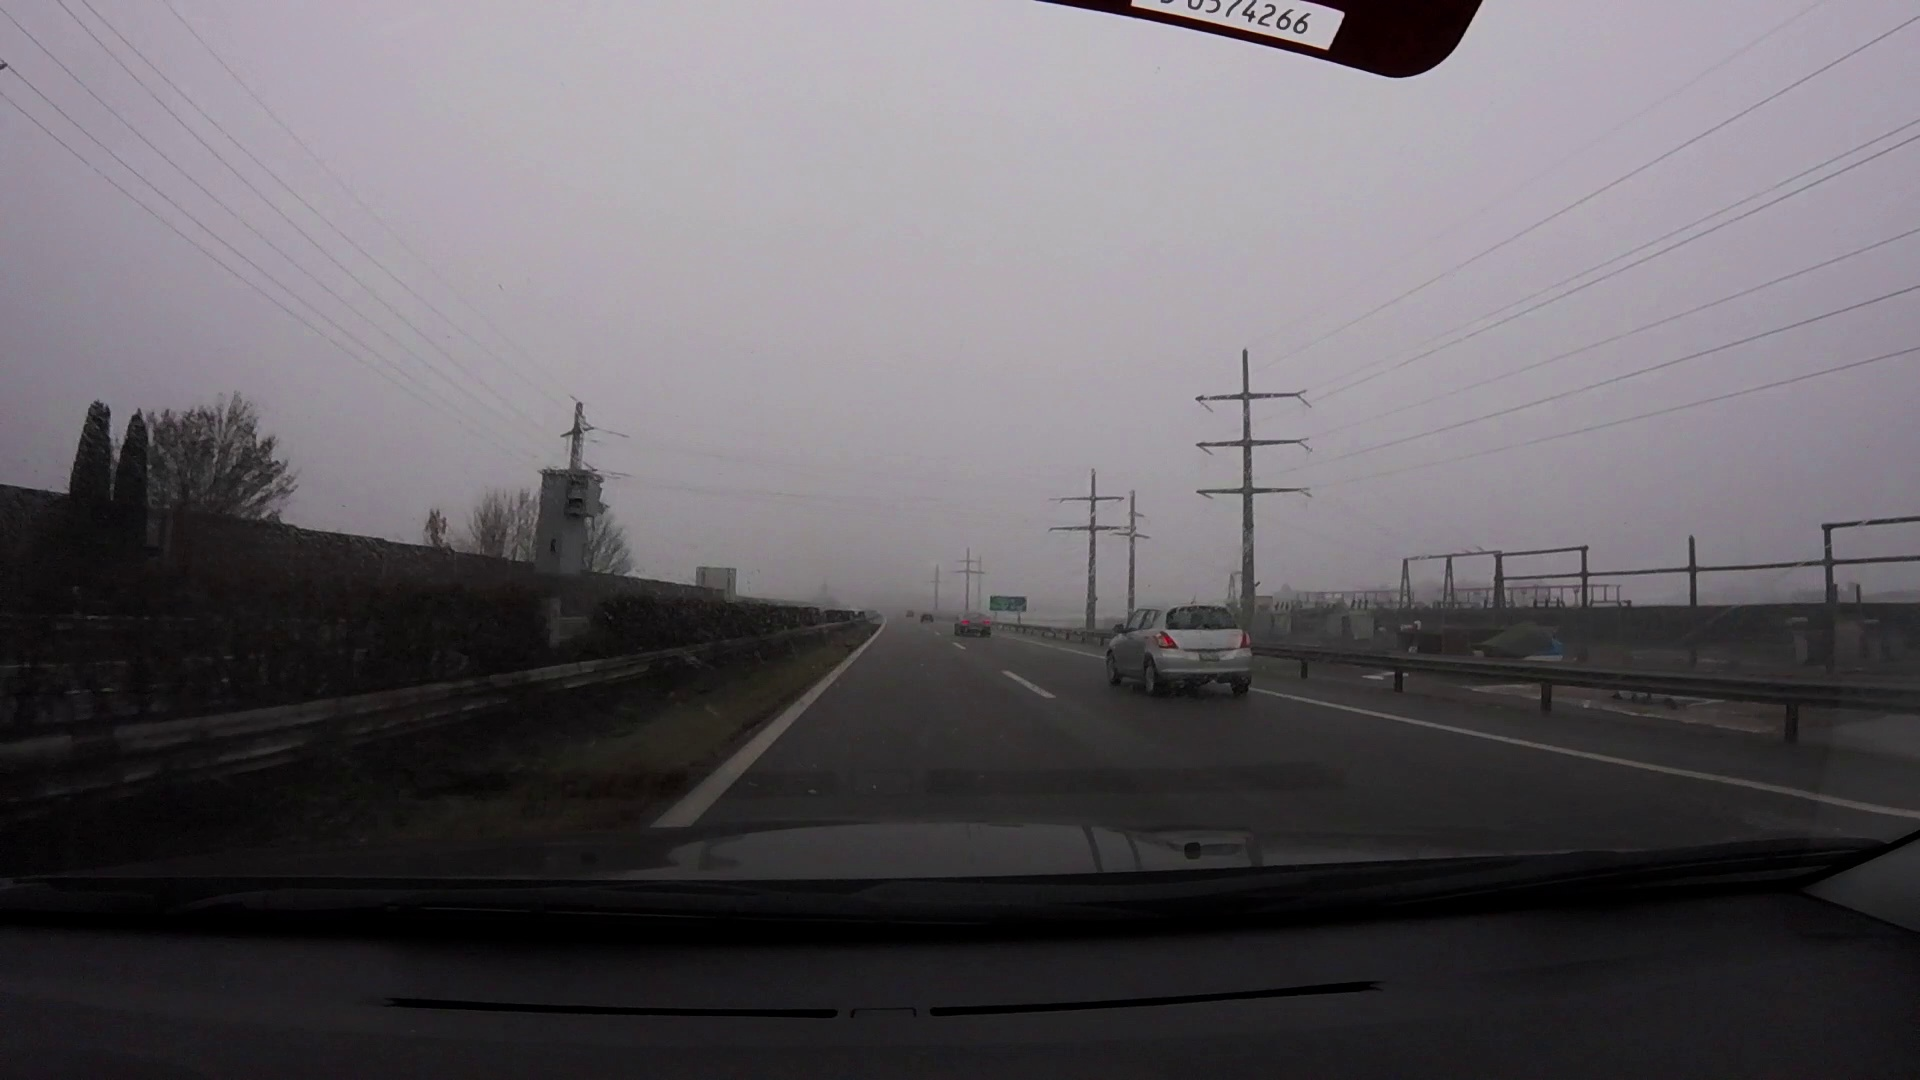radar: (531, 467, 611, 612)
